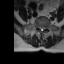CCS_severe_stenosis: (41, 25, 43, 33)
LFS_stenosis: (44, 25, 46, 30)
LLS_normal: (43, 25, 44, 32)
RFS_stenosis: (37, 24, 39, 30)
RLS_normal: (39, 25, 41, 31)
